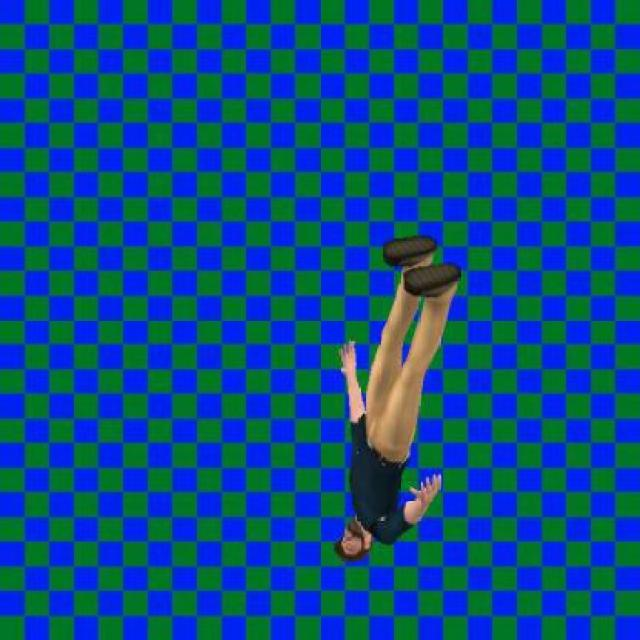Person: (330, 229, 464, 566)
